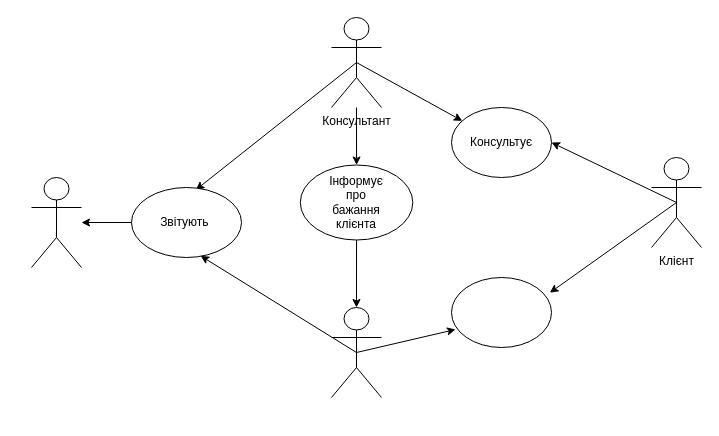
This 719x436 diagram has some shape labels left out. Each missing label, with the centre of its shape:
Адміністратор: pixel 56 222
Оформляє продаж: pixel 501 312
Продавець: pixel 356 352
